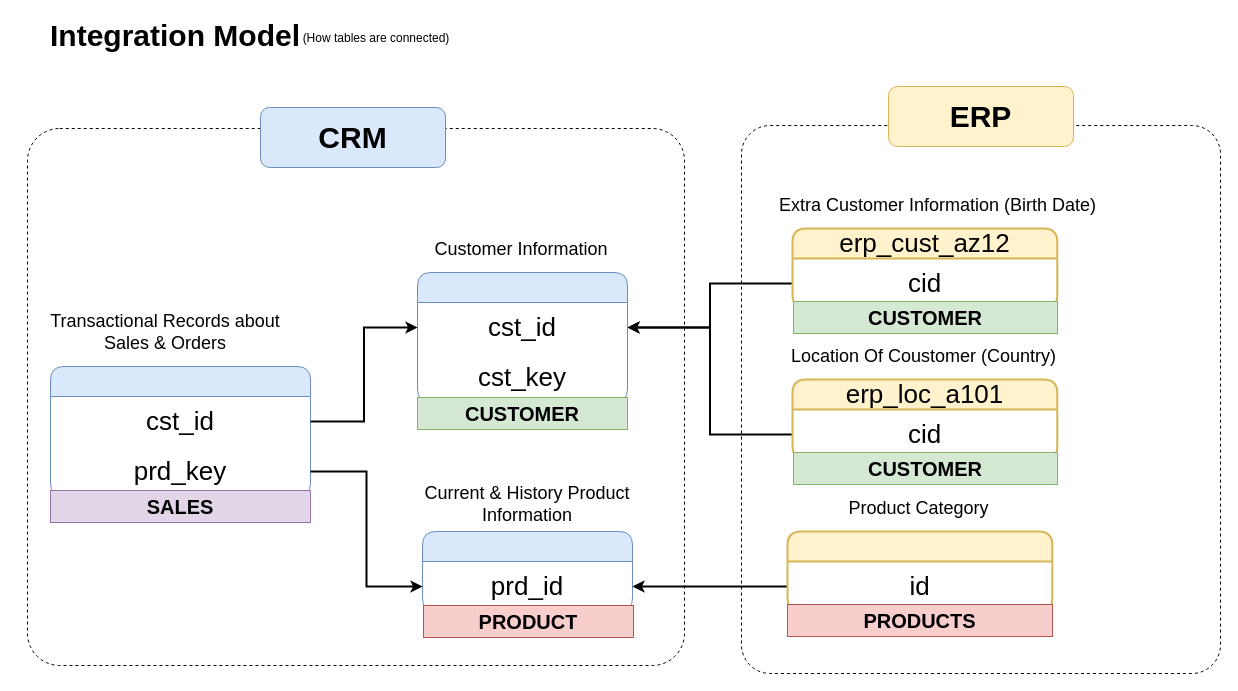
Image size: 1238x691. Some labels were removed from this diagram. Each missing label, with the box of its shape:
crm_cust_info: (416, 272, 628, 402)
crm_prd_info: (422, 530, 632, 612)
crm_sales_details: (50, 366, 310, 496)
erp_px_cat_g1v2: (786, 530, 1053, 612)
